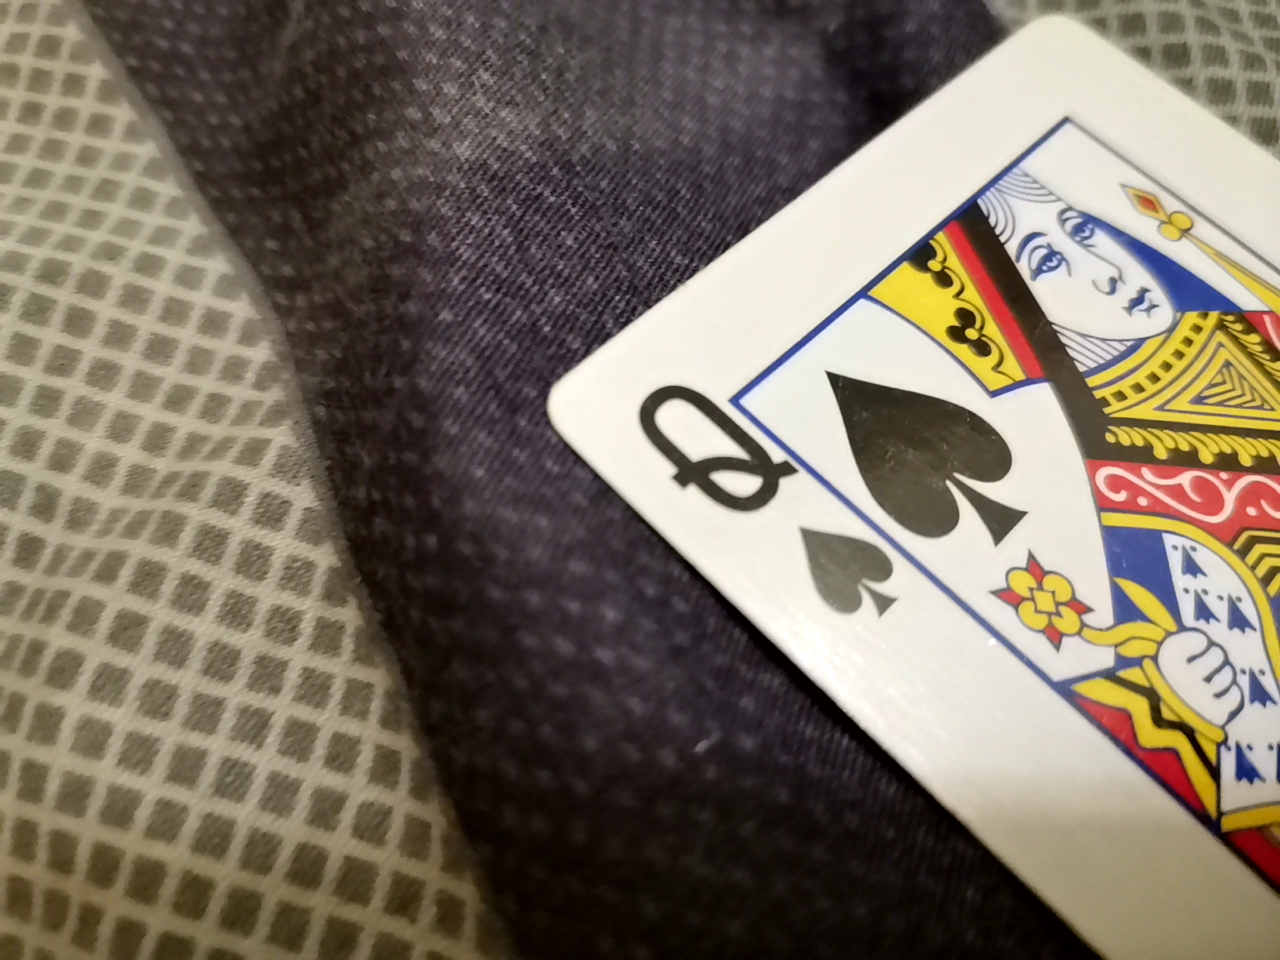ht q: (531, 10, 1270, 955)
